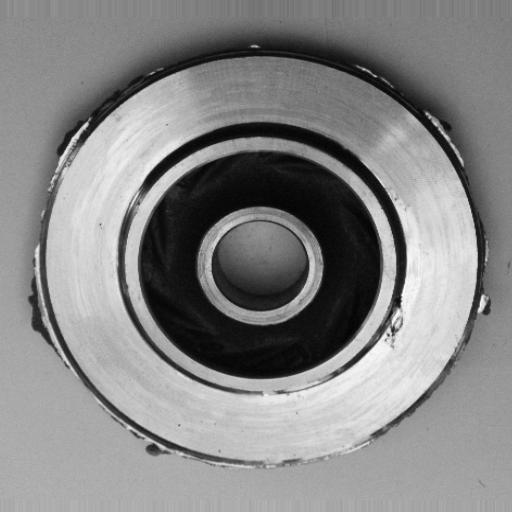casting_with_burr: (25, 38, 495, 471)
crack: (383, 297, 409, 363)
scratch: (250, 370, 344, 405), (122, 179, 158, 229)
